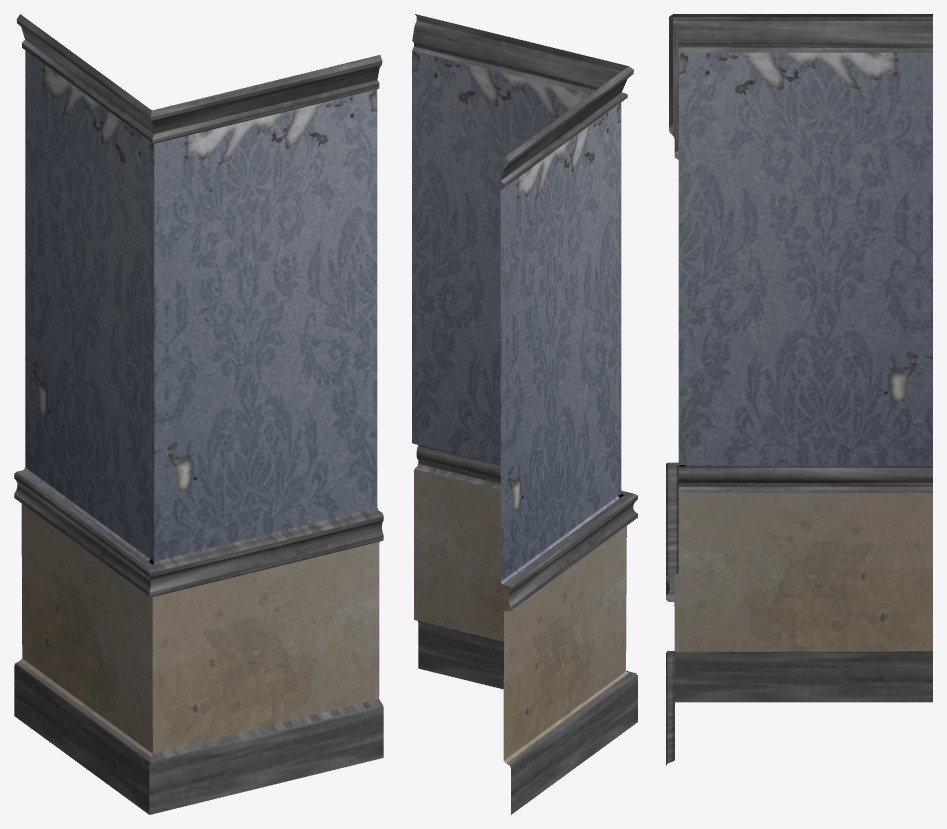
File: Mod_Wall_Corner_A_1x3.fbx
The picture shows the model from 3 angles, left to right: view 1: azimuth 30°, elevation 25°; view 2: azimuth 150°, elevation 25°; view 3: azimuth 270°, elevation 25°; orthographic projection. The views are drawn at different scales.
Parts seen in each view (by area): view 1: Mod_Wall_Corner_A_1x3; view 2: Mod_Wall_Corner_A_1x3; view 3: Mod_Wall_Corner_A_1x3.
Boxes of the visible parts, x1,y1,x2,y2 form: Mod_Wall_Corner_A_1x3: (14, 14, 383, 814); Mod_Wall_Corner_A_1x3: (412, 14, 637, 814); Mod_Wall_Corner_A_1x3: (666, 14, 932, 765).
Size of the model in its own units: 105 by 300 by 105.
1 material, 1 textured.
